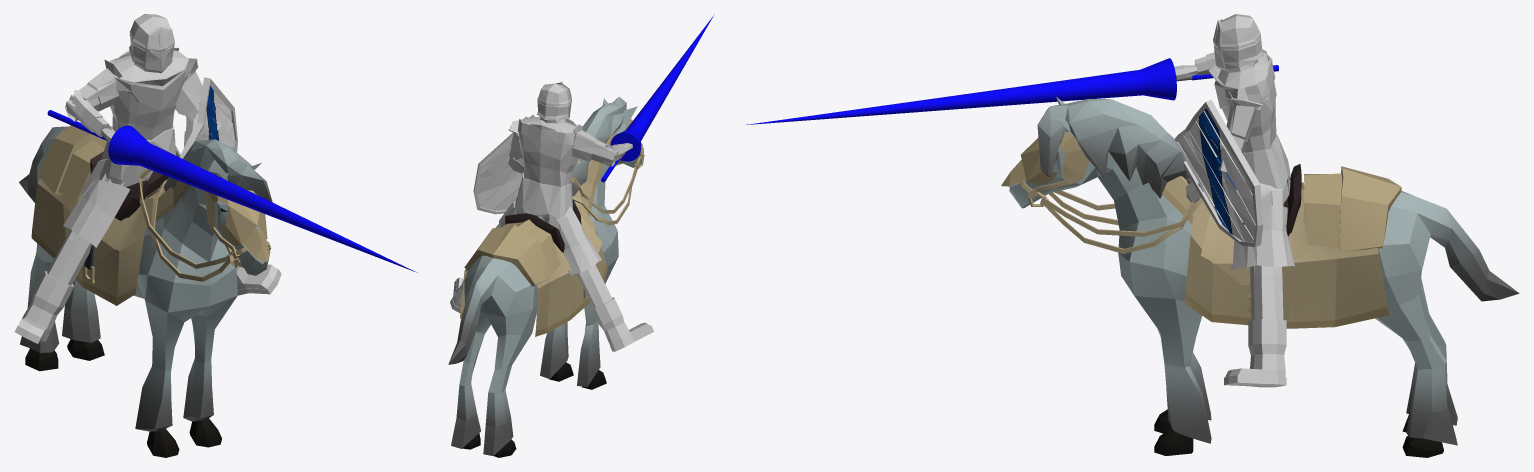
File: Ivanhoe.obj
The picture shows the model from 3 angles, left to right: view 1: azimuth 30°, elevation 25°; view 2: azimuth 150°, elevation 25°; view 3: azimuth 270°, elevation 25°; orthographic projection. The views are drawn at different scales.
Visible parts, largest first — view 1: Knight; view 2: Knight; view 3: Knight.
Part boxes in pixels (x1,y1,x2,y2): Knight: (14, 14, 416, 457); Knight: (448, 14, 714, 457); Knight: (746, 14, 1519, 457).
Bounding box in the file's own units: 2.2 × 3.25 × 5.4.
